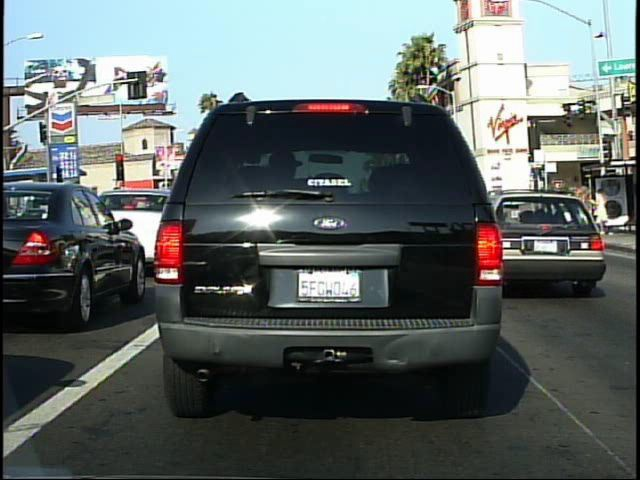person: (590, 185, 618, 241), (567, 183, 588, 239)
